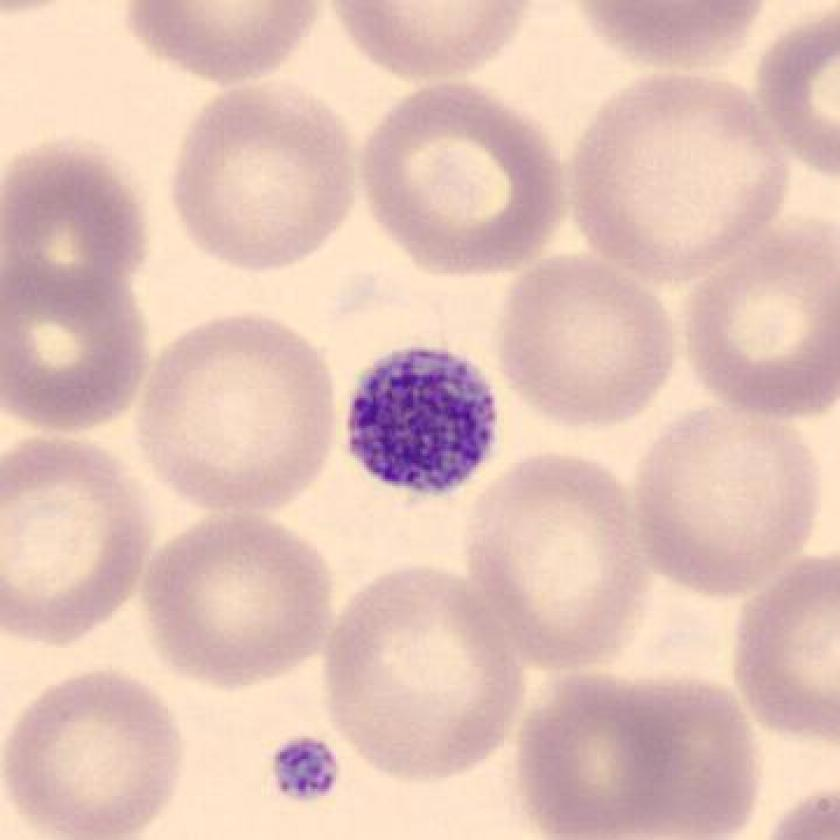platelets: (330, 334, 512, 501), (263, 723, 361, 811)
